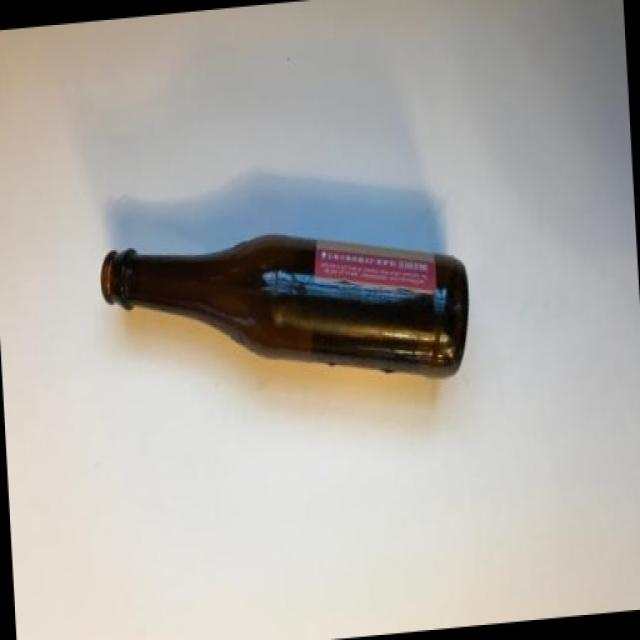vidrio: (84, 147, 505, 398)
